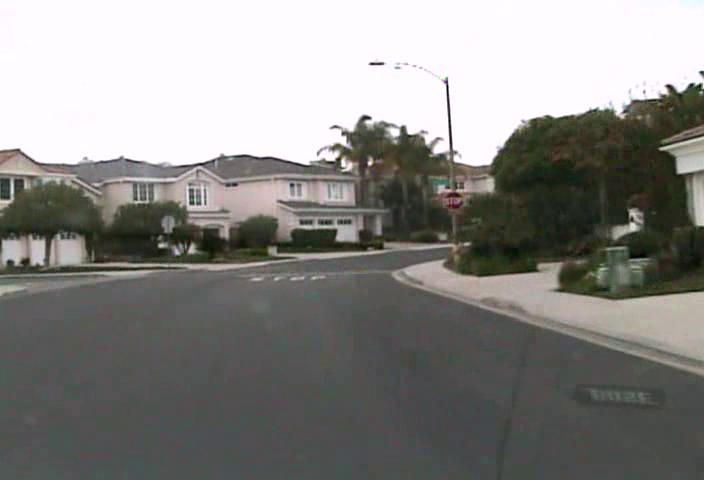stop: (443, 190, 464, 211)
